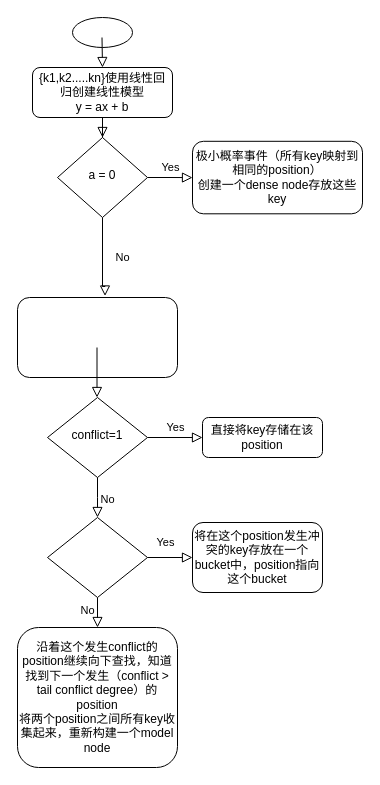
Image size: 380x785. Some labels were removed from this diagram. Here are the shapes that lost their labels. From the top down, the centre of each, then its label:
At [102,32]: "开始".
At [97,337]: "创建一个model node 使用linear model映射key到每个position， 计算每个position的冲突度conflict".
At [97,557]: "conflict <= tail conflict degree".
